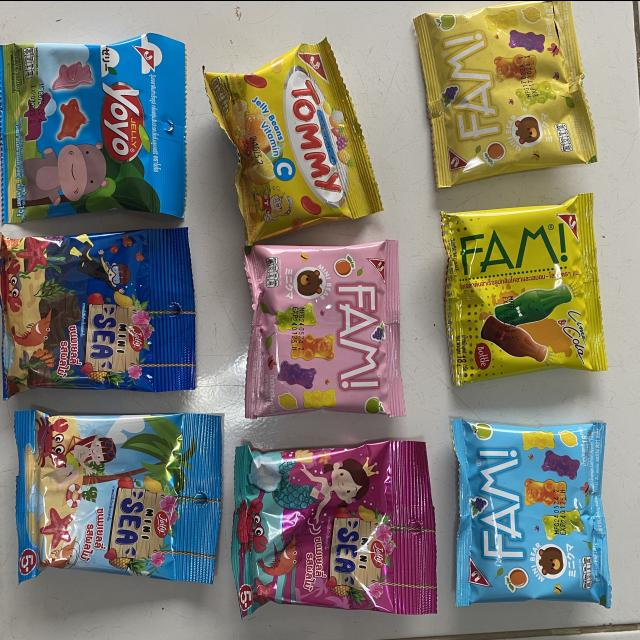plastik: (205, 38, 382, 242), (231, 440, 437, 615), (15, 410, 222, 583), (0, 32, 185, 223), (415, 0, 596, 187), (0, 227, 196, 398), (441, 192, 607, 385), (451, 418, 611, 608), (245, 239, 405, 418)
